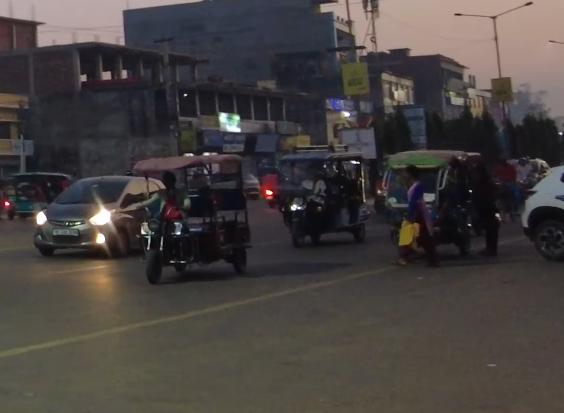car: (34, 175, 167, 260)
e-rickshaw: (132, 153, 251, 286), (382, 141, 480, 256), (271, 147, 374, 253)
